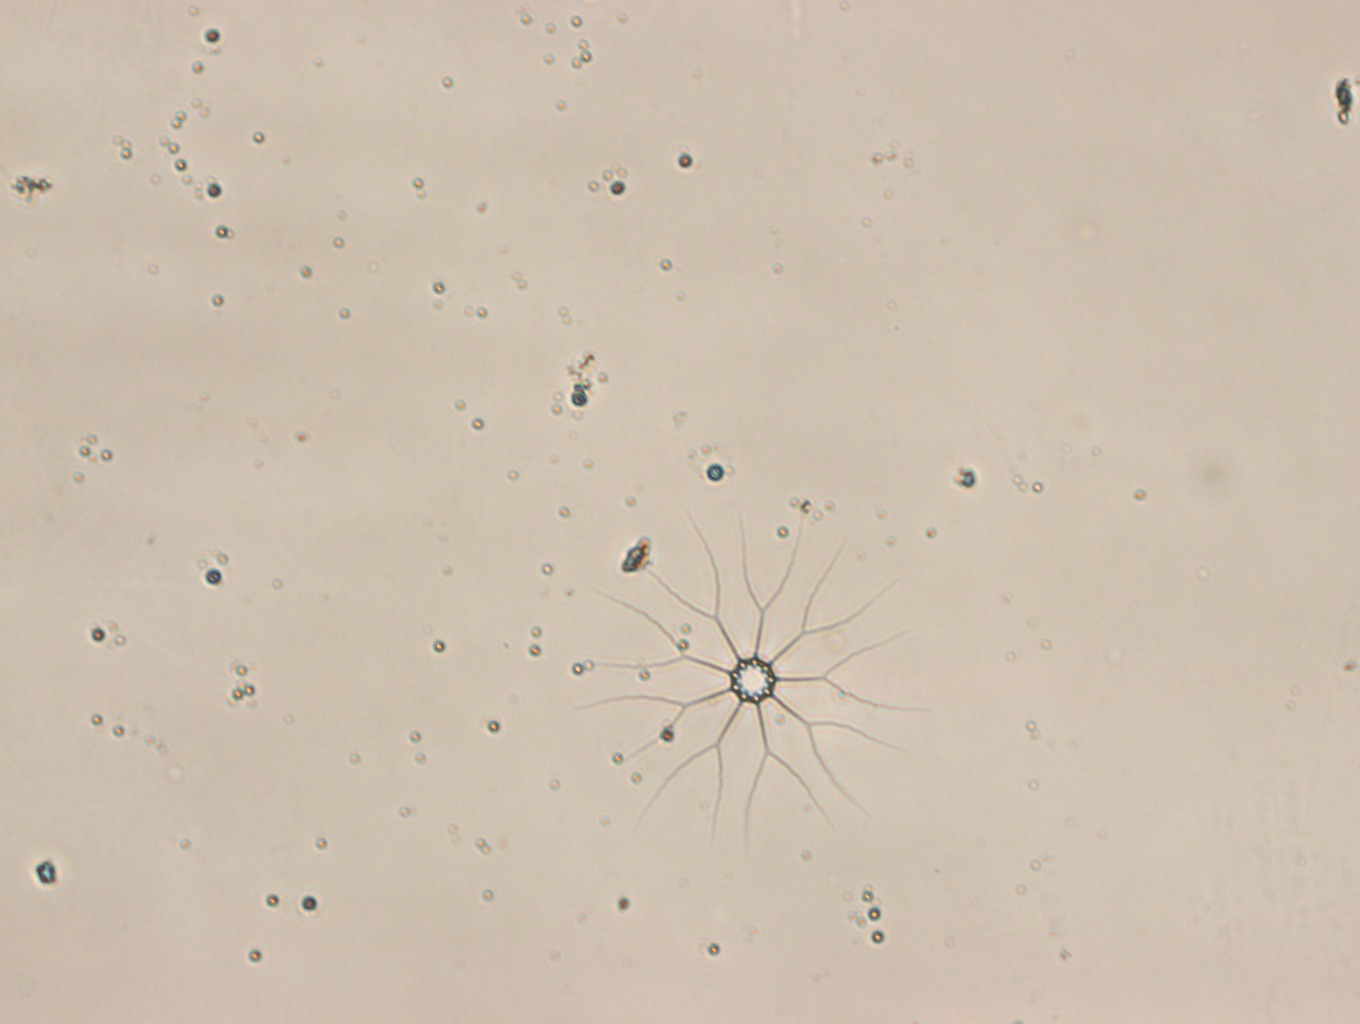bacteriastrum: (570, 507, 937, 837)
